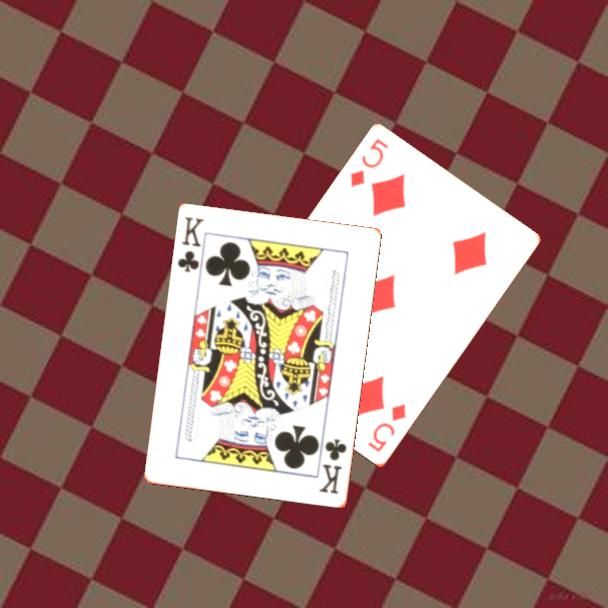c13: (174, 213, 207, 276), (316, 436, 350, 497)
d05: (364, 400, 409, 456), (347, 135, 391, 191)
